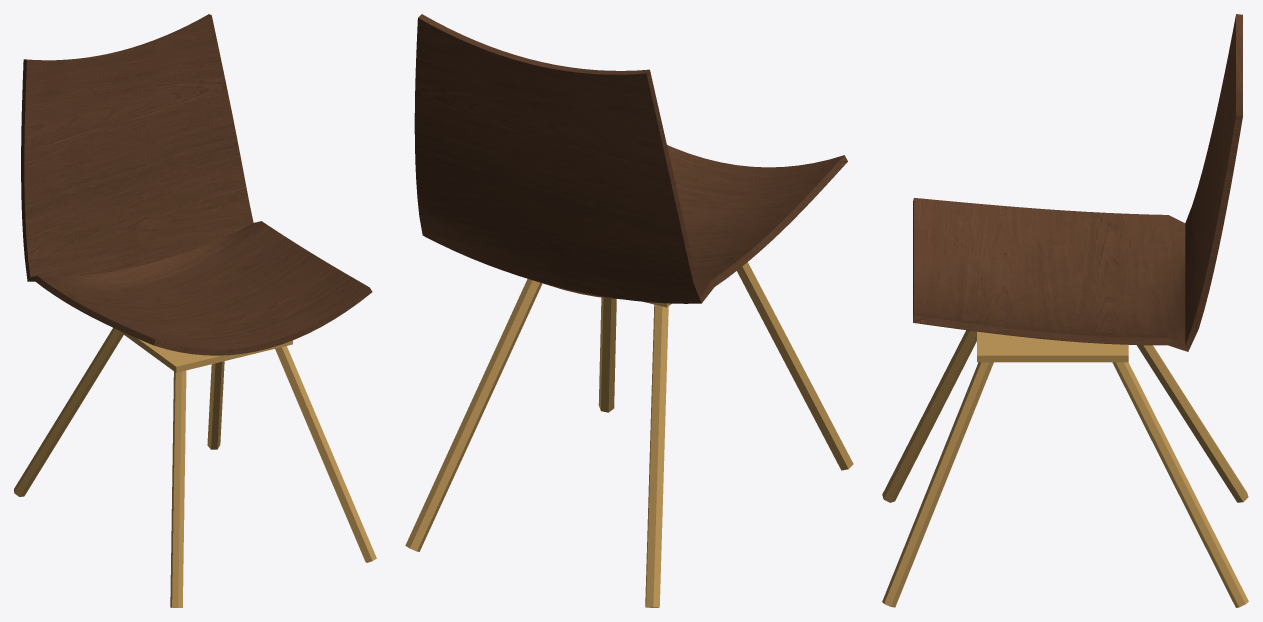
Rendered from shell_walnut.glb.
3 views of the same model, side by side, from view 1: azimuth 30°, elevation 25°; view 2: azimuth 150°, elevation 25°; view 3: azimuth 270°, elevation 25° (orthographic). The views are drawn at different scales.
Visible parts, largest first — view 1: shell_walnut; view 2: shell_walnut; view 3: shell_walnut.
Boxes of the visible parts, bbox=[...] form: shell_walnut: bbox=[14, 14, 376, 607]; shell_walnut: bbox=[405, 14, 853, 607]; shell_walnut: bbox=[882, 14, 1248, 607].
Bounding box in the file's own units: 0.4733 × 0.8556 × 0.5808.
Materials: 2 (1 with a texture image).
